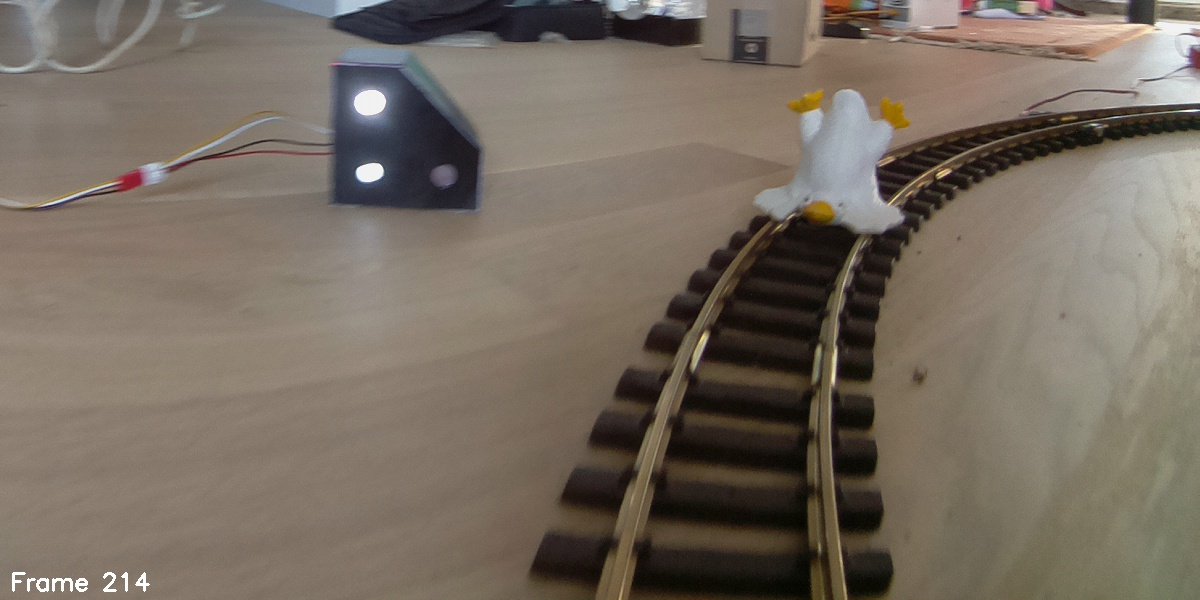Ente: (750, 84, 912, 242)
Fahrt: (328, 41, 481, 213)
